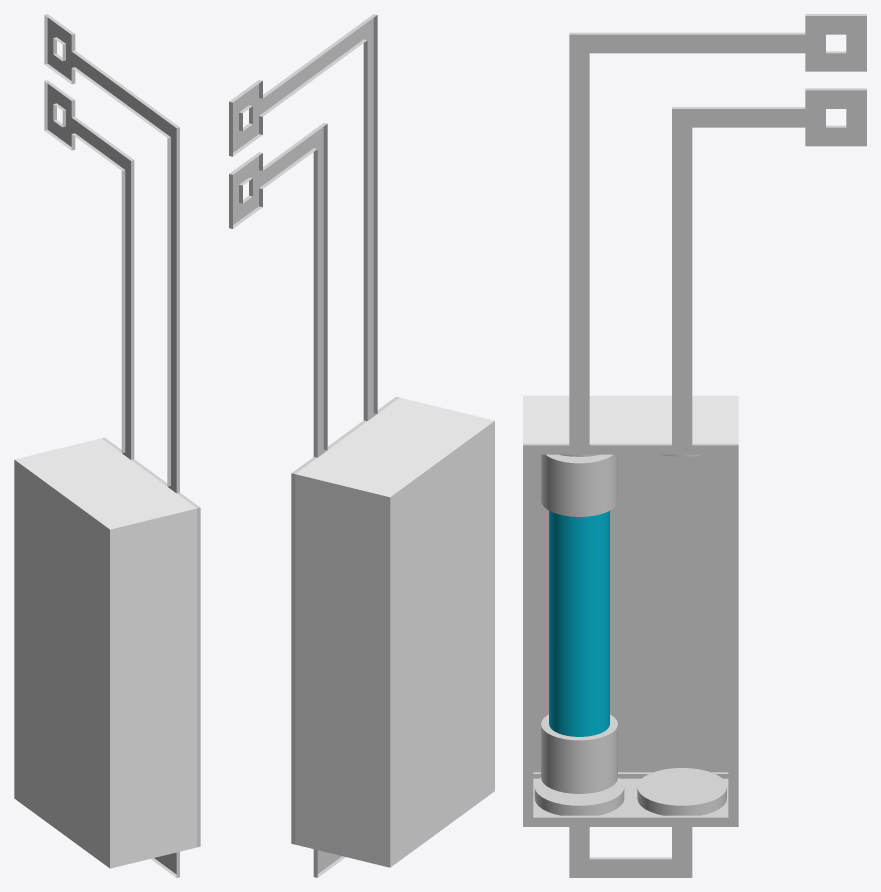
File: 1Fuse.fbx
3 views of the same model, side by side, from view 1: azimuth 30°, elevation 25°; view 2: azimuth 150°, elevation 25°; view 3: azimuth 270°, elevation 25° (orthographic). The views are drawn at different scales.
Parts seen in each view (by area): view 1: CutoutBox, Fuse; view 2: CutoutBox, Fuse; view 3: Fuse, TransparentTube, CutoutBox.
Part boxes in pixels (left/top/right/bottom): CutoutBox: left=14, top=438, right=196, bottom=868; Fuse: left=44, top=14, right=200, bottom=877; CutoutBox: left=295, top=397, right=494, bottom=867; Fuse: left=229, top=14, right=399, bottom=877; Fuse: left=523, top=14, right=866, bottom=877; TransparentTube: left=549, top=510, right=609, bottom=736; CutoutBox: left=523, top=395, right=738, bottom=443.
Bounding box in the file's own units: 11.45 × 92.68 × 33.5.
